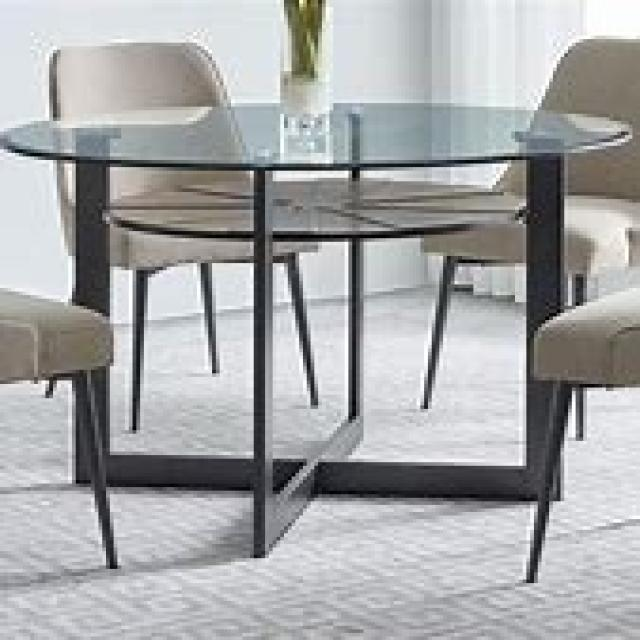chair: (42, 39, 318, 430)
table: (0, 96, 632, 558)
